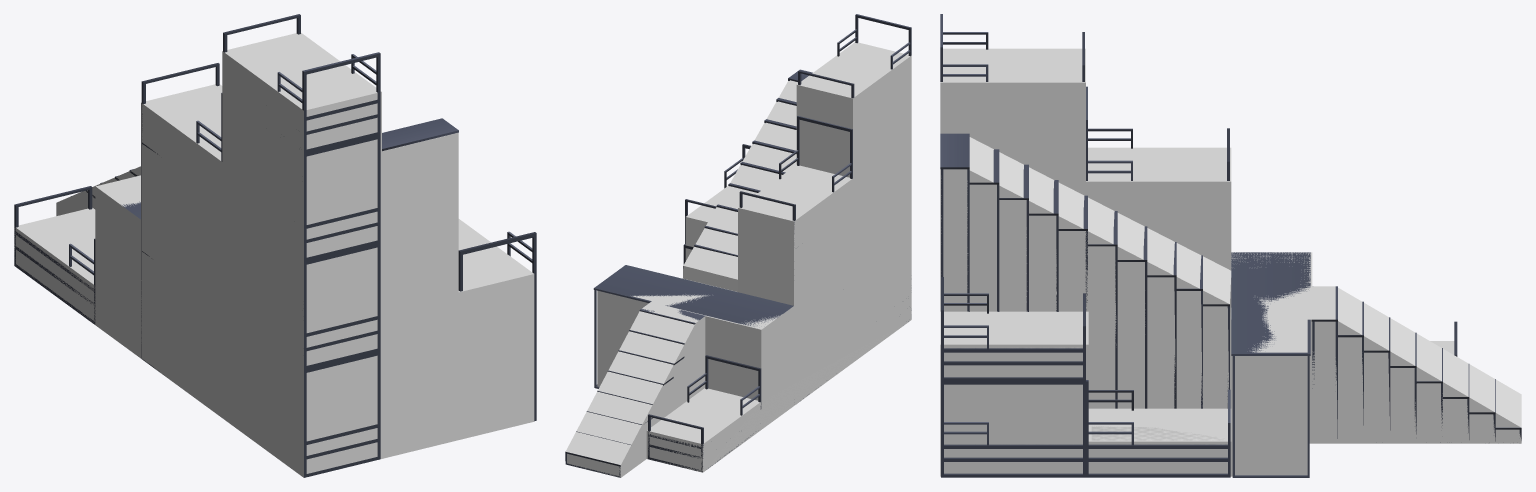
The model's file is squidgame_props_bed_set1.fbx.
The picture shows the model from 3 angles, left to right: view 1: azimuth 30°, elevation 25°; view 2: azimuth 150°, elevation 25°; view 3: azimuth 270°, elevation 25°; orthographic projection. The views are drawn at different scales.
Parts seen in each view (by area): view 1: squidgame_props_bed_set1_col, squidgame_props_bed_set1; view 2: squidgame_props_bed_set1_col, squidgame_props_bed_set1; view 3: squidgame_props_bed_set1_col, squidgame_props_bed_set1.
Boxes of the visible parts, box(x1,y1,x2,y2) form: squidgame_props_bed_set1_col: box(14, 33, 534, 477); squidgame_props_bed_set1: box(14, 14, 536, 477); squidgame_props_bed_set1_col: box(565, 42, 911, 477); squidgame_props_bed_set1: box(565, 14, 911, 477); squidgame_props_bed_set1_col: box(940, 48, 1521, 476); squidgame_props_bed_set1: box(940, 14, 1521, 477).
Bounding box in the file's own units: 3.39 × 5.63 × 8.19.
